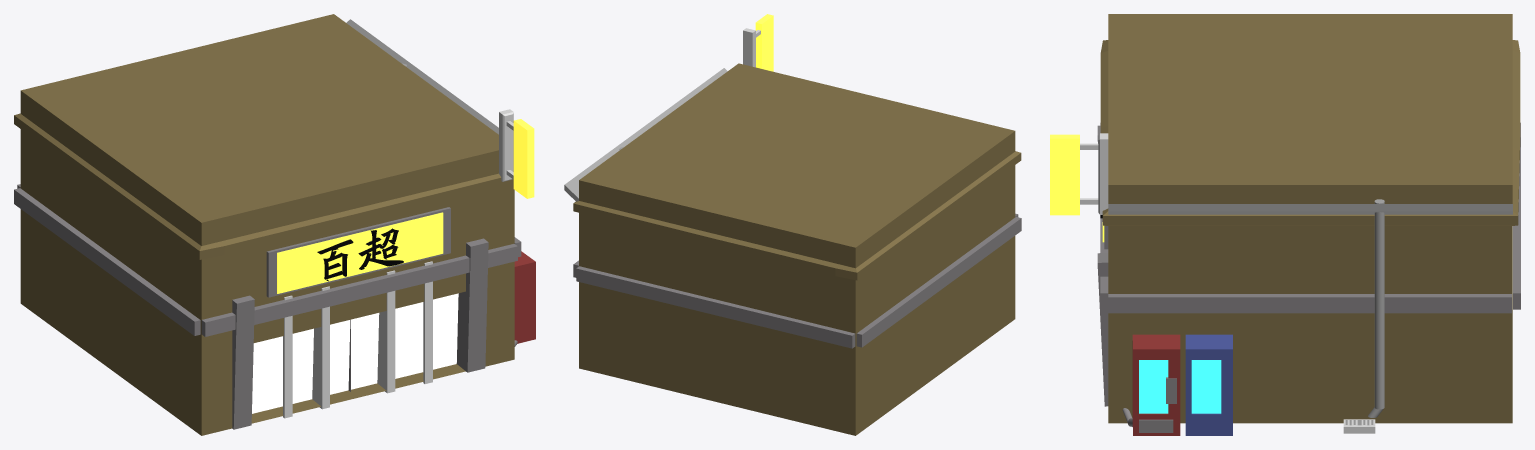
The picture shows the model from 3 angles, left to right: view 1: azimuth 30°, elevation 25°; view 2: azimuth 150°, elevation 25°; view 3: azimuth 270°, elevation 25°; orthographic projection. The views are drawn at different scales.
Visible parts, largest first — view 1: Cube, Cube.004, Cube.027, Cube.006, Cube.011, Cube.020, Cube.005, Cube.026, Cube.017, Cube.023, Cube.015, Cube.024 (+5 smaller); view 2: Cube, Cube.009, Cube.011, Cube.002, Cube.015, Cube.012; view 3: Cube, Cube.010, Cube.002, Cube.007, Cube.017, Cube.015, Cylinder.001, Cube.008, Cube.016, Cube.020, Cube.009, Cube.012 (+3 smaller).
Boxes of the visible parts, bbox=[...] form: Cube: bbox=[14, 14, 514, 435]; Cube.004: bbox=[252, 293, 458, 413]; Cube.027: bbox=[277, 212, 443, 293]; Cube.006: bbox=[201, 243, 517, 336]; Cube.011: bbox=[14, 188, 200, 335]; Cube.020: bbox=[456, 238, 488, 372]; Cube.005: bbox=[232, 295, 254, 429]; Cube.026: bbox=[266, 207, 450, 297]; Cube.017: bbox=[514, 251, 535, 343]; Cube.023: bbox=[377, 270, 395, 393]; Cube.015: bbox=[513, 119, 534, 198]; Cube.024: bbox=[312, 286, 329, 409]; Cube: bbox=[573, 63, 1021, 435]; Cube.009: bbox=[576, 266, 855, 348]; Cube.011: bbox=[856, 217, 1021, 347]; Cube.002: bbox=[564, 68, 727, 201]; Cube.015: bbox=[755, 14, 773, 71]; Cube.012: bbox=[743, 28, 755, 67]; Cube: bbox=[1100, 14, 1520, 423]; Cube.010: bbox=[1108, 294, 1511, 313]; Cube.002: bbox=[1108, 204, 1512, 214]; Cube.007: bbox=[1185, 334, 1232, 435]; Cube.017: bbox=[1132, 334, 1180, 435]; Cube.015: bbox=[1050, 134, 1079, 215]; Cylinder.001: bbox=[1368, 199, 1384, 417]; Cube.008: bbox=[1191, 360, 1221, 413]; Cube.016: bbox=[1139, 360, 1168, 413]; Cube.020: bbox=[1097, 253, 1108, 406]; Cube.009: bbox=[1513, 122, 1520, 309]; Cube.012: bbox=[1098, 133, 1108, 214].
Size of what is drawn, in the model's own units: 14.06 by 9.65 by 14.5.
